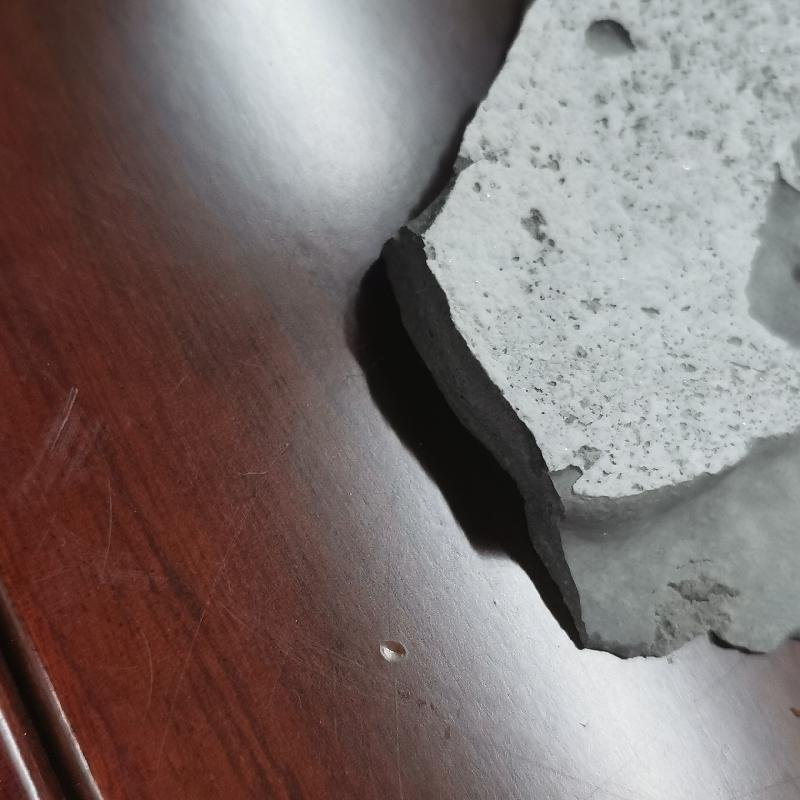tile: (370, 0, 800, 665)
